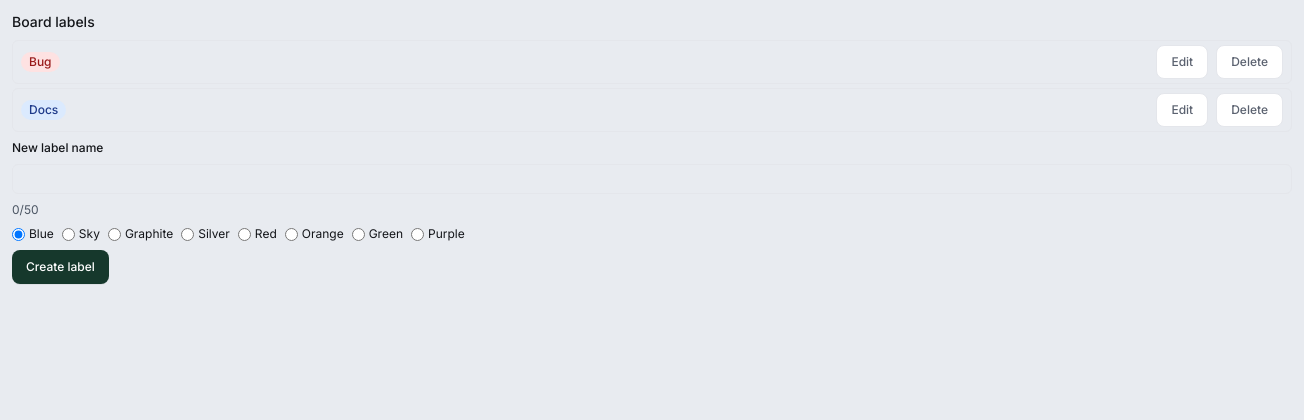
Scenario: LabelManager › keeps the edit open and shows 409 on a clashing rename
This screenshot has width=1304, height=420.
Step 1. Click the button with aria-label "Edit label Bug" → (1182, 62), box [1156,45,1208,79]
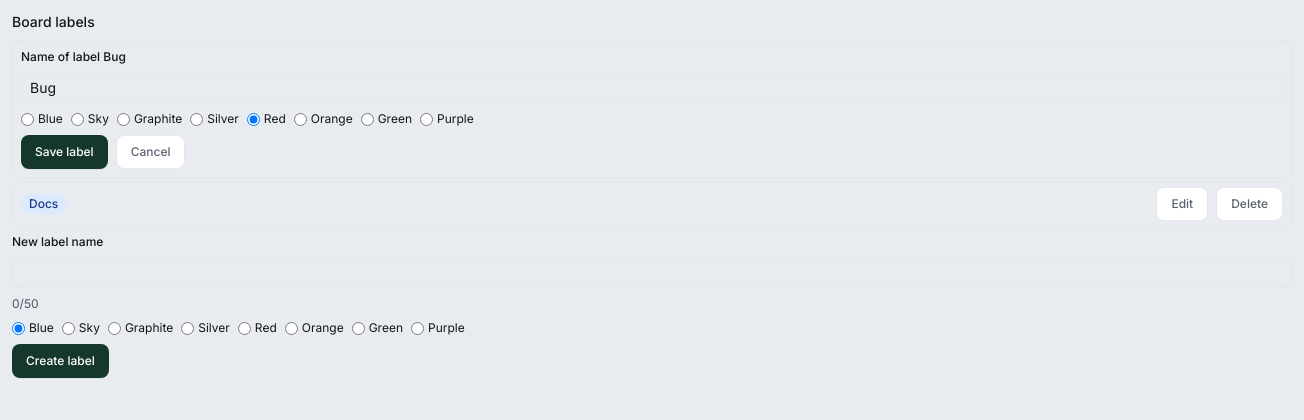
Step 2. Replace the text in the field labelled "Name of label Bug" with "docs" → (652, 88), box [21,73,1283,103]
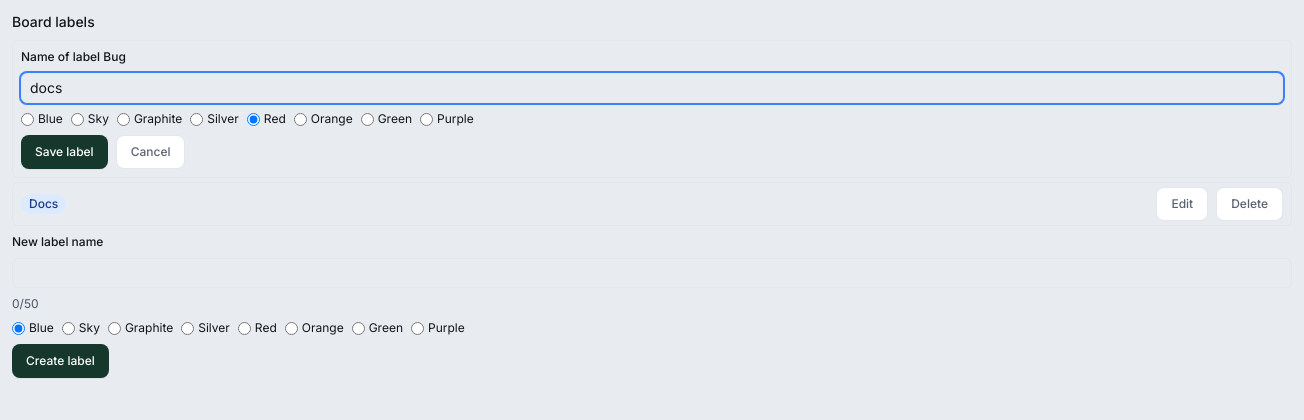
Step 3. Click the button "Save label" → (64, 152), box [21,135,108,169]
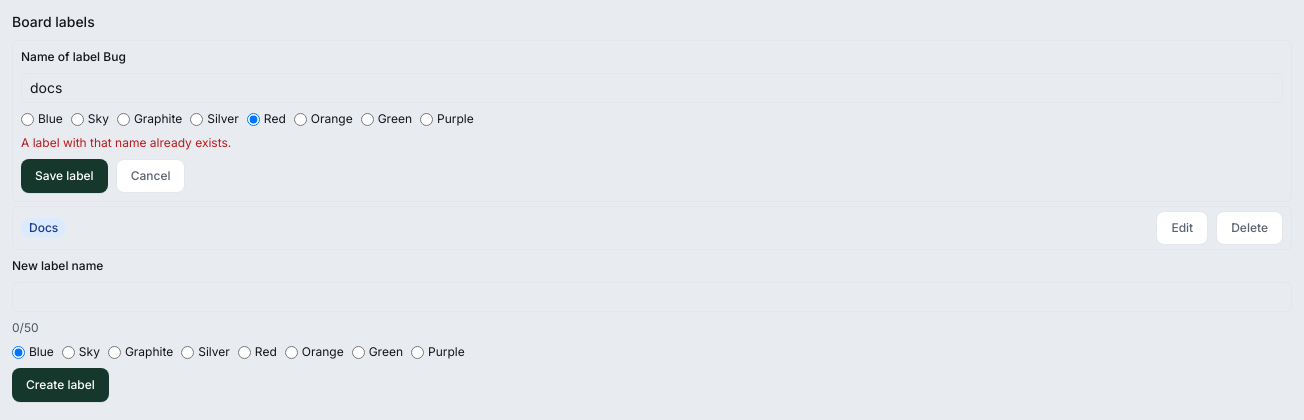
Expected: the message reads "A label with that name already exists.", [21,135,231,150]
